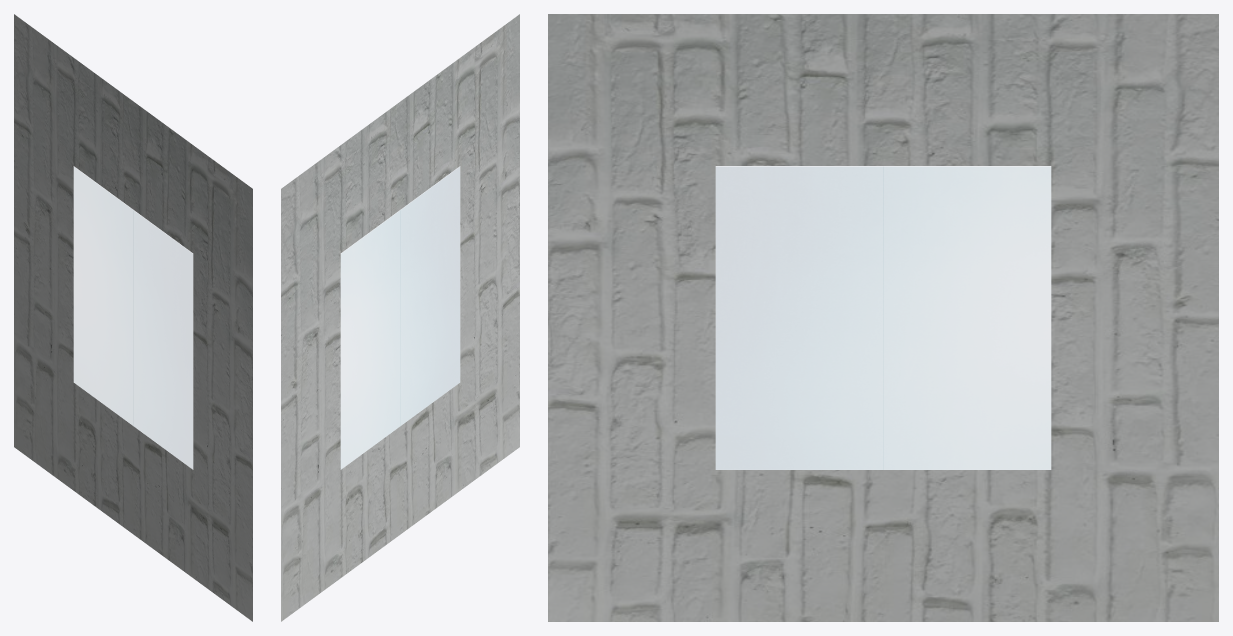
The model's file is paredvent.fbx.
3 views of the same model, side by side, from view 1: azimuth 30°, elevation 25°; view 2: azimuth 150°, elevation 25°; view 3: azimuth 270°, elevation 25° (orthographic). The views are drawn at different scales.
Parts seen in each view (by area): view 1: Plane; view 2: Plane; view 3: Plane.
Boxes of the visible parts, x1=… form: Plane: x1=14, y1=14, x2=252, y2=621; Plane: x1=281, y1=14, x2=519, y2=621; Plane: x1=548, y1=14, x2=1218, y2=621.
Bounding box in the file's own units: 2.83e-16 × 1 × 1.
Materials: 2 (2 with a texture image).
